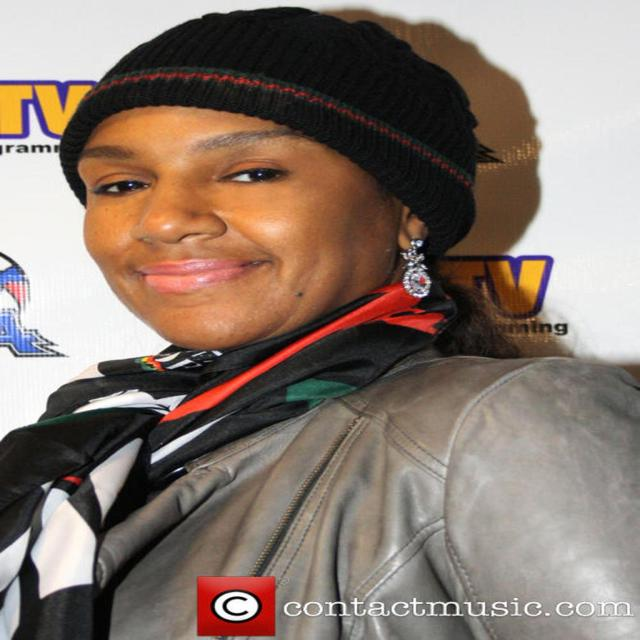Face: (56, 83, 432, 351)
